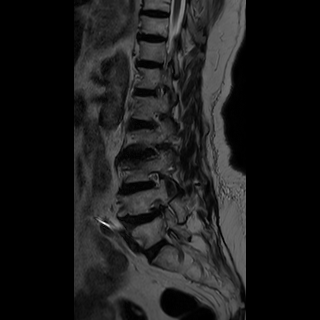LFS0: (143, 166, 166, 195)
